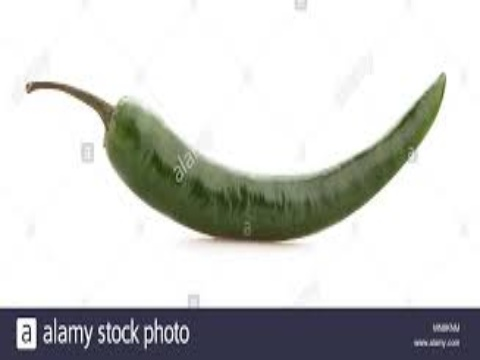Chilli: (19, 69, 464, 256)
